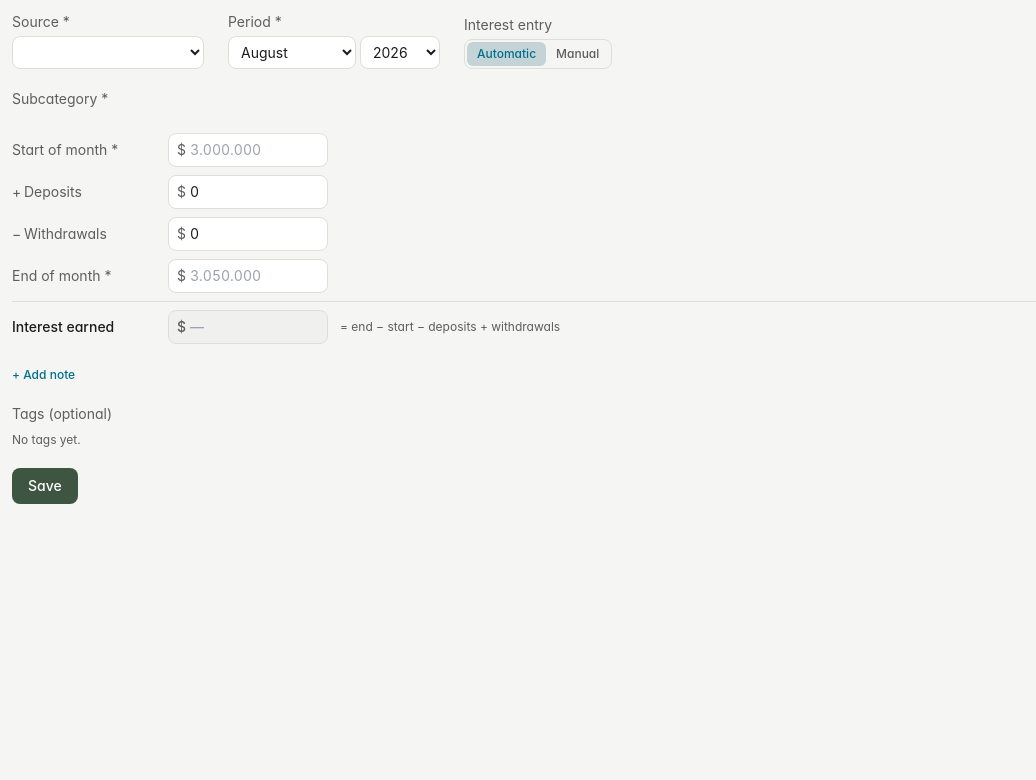
Scenario: InterestIncomeForm › en manual el interes es editable, parte del calculado y acepta negativos
The image size is (1036, 780).
Type "1000000" into the field with placeholder "3.000.000" at (254, 150), box [190, 140, 319, 160]
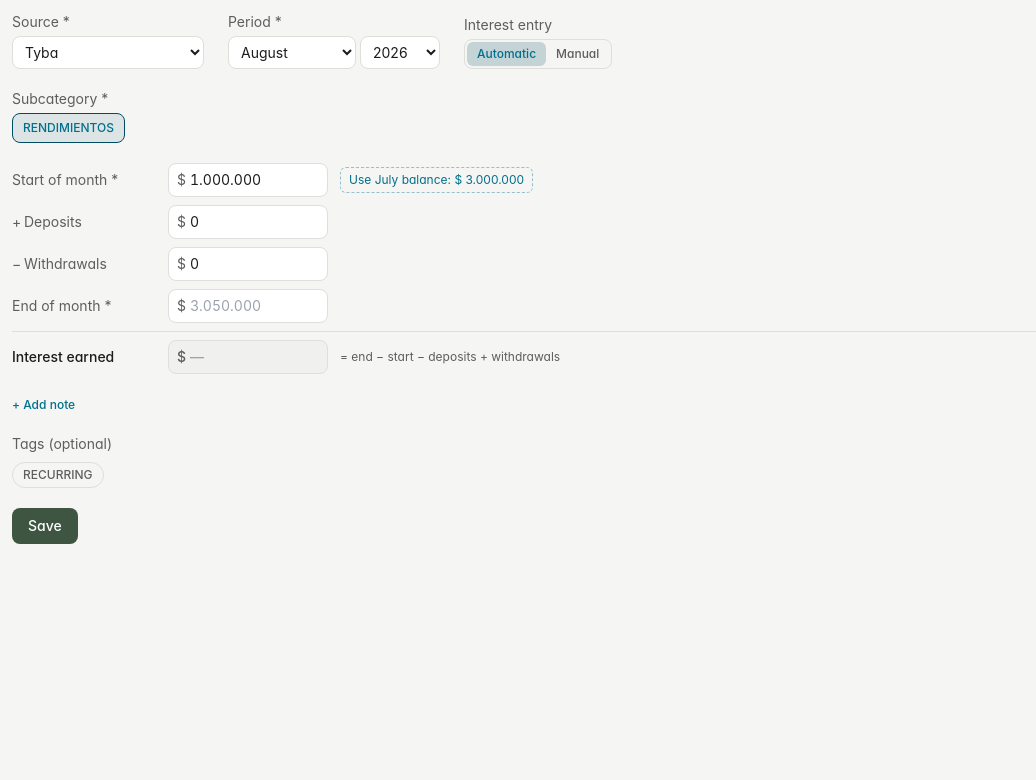
Type "1010000" into the field with placeholder "3.050.000" at (254, 306), box [190, 296, 319, 316]
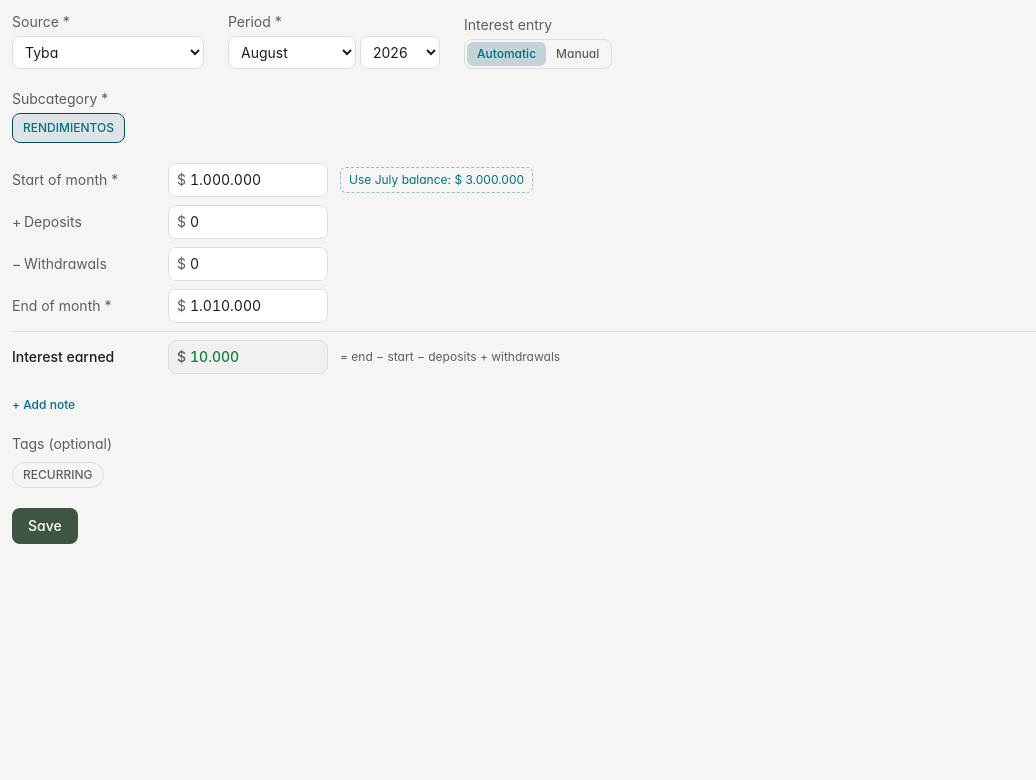
Click the button with test id "mode-manual" at (578, 54), box [546, 42, 609, 66]
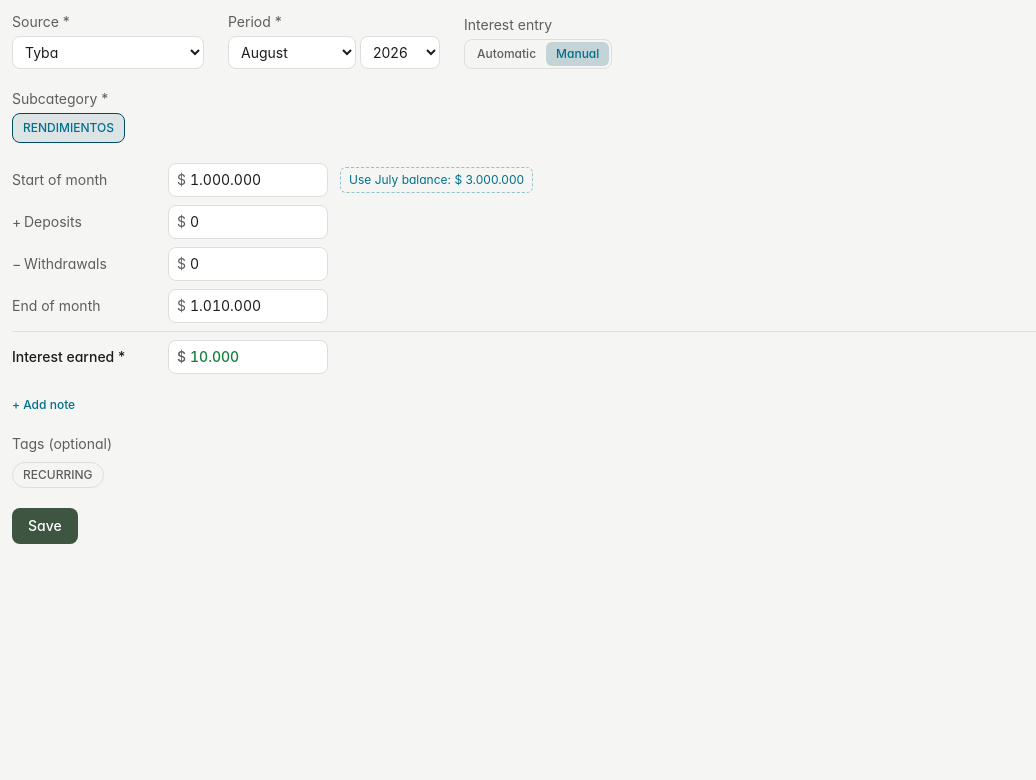
Result: the field next to "Interest earned *" holds "10.000"
Replace the text in the field next to "Interest earned *" with "-2000" at (254, 357), box [190, 347, 319, 367]
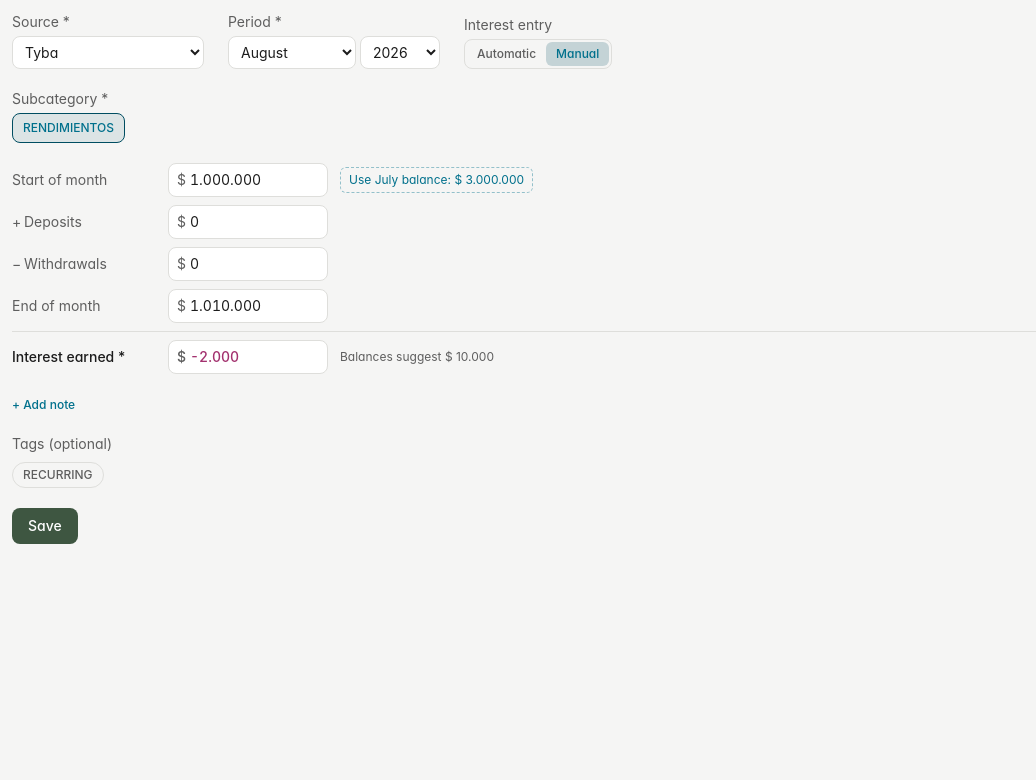
Result: the field next to "Balances suggest $ 10.000" holds "-2.000" at [190, 347, 319, 367]
Result: the text "Balances suggest $ 10.000" is shown at [340, 349, 494, 365]
